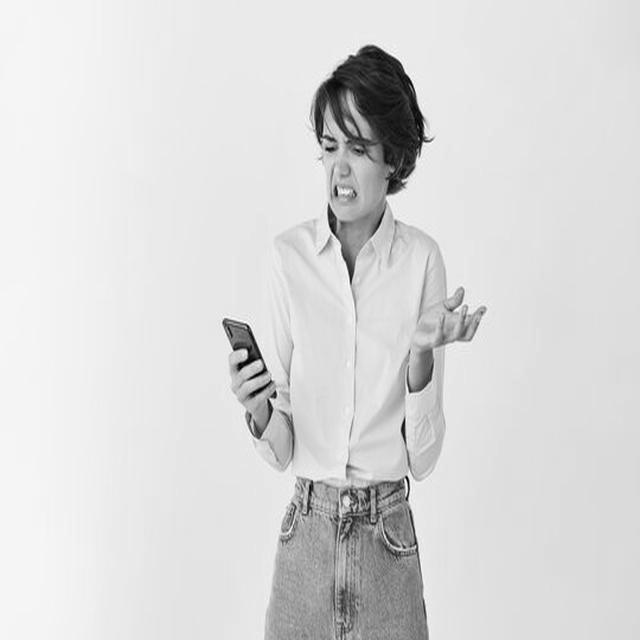Disgust: (322, 91, 389, 223)
